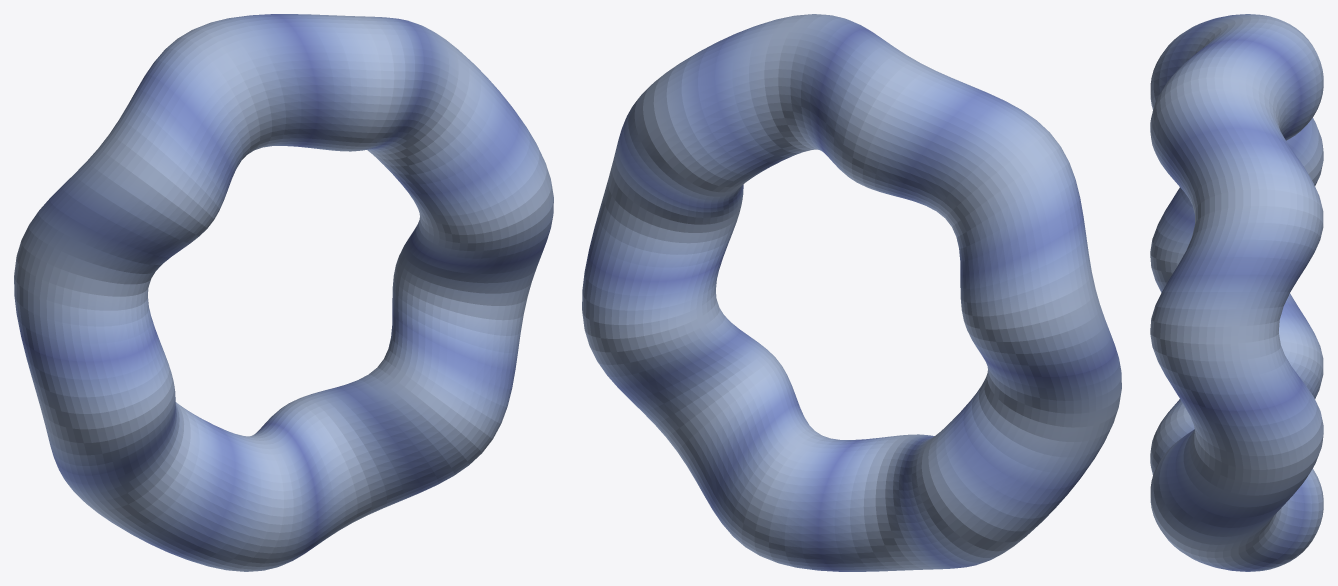
Rendered from step_5.glb.
3 views of the same model, side by side, from view 1: azimuth 30°, elevation 25°; view 2: azimuth 150°, elevation 25°; view 3: azimuth 270°, elevation 25° (orthographic). The views are drawn at different scales.
Visible parts, largest first — view 1: world; view 2: world; view 3: world.
Part boxes in pixels (left/top/right/bottom): world: left=14, top=14, right=553, bottom=571; world: left=582, top=14, right=1121, bottom=571; world: left=1150, top=14, right=1323, bottom=571.
Bounding box in the file's own units: 26 × 26 × 8.09.
